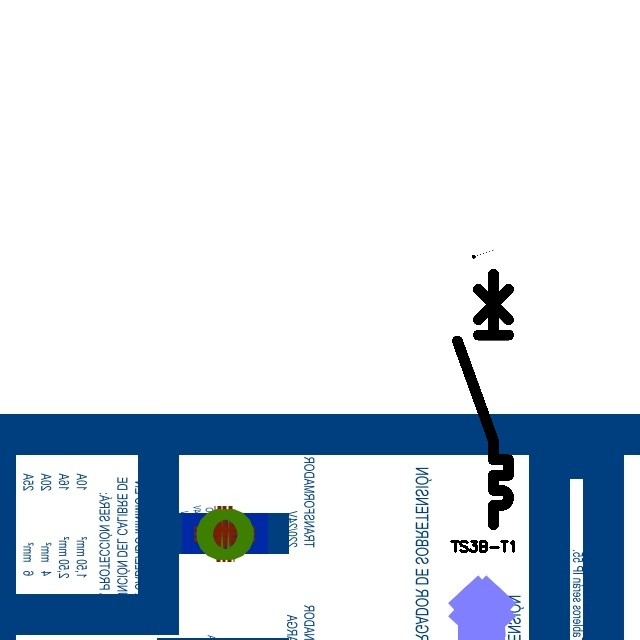interruptor_termomagnetico: (451, 267, 515, 531)
